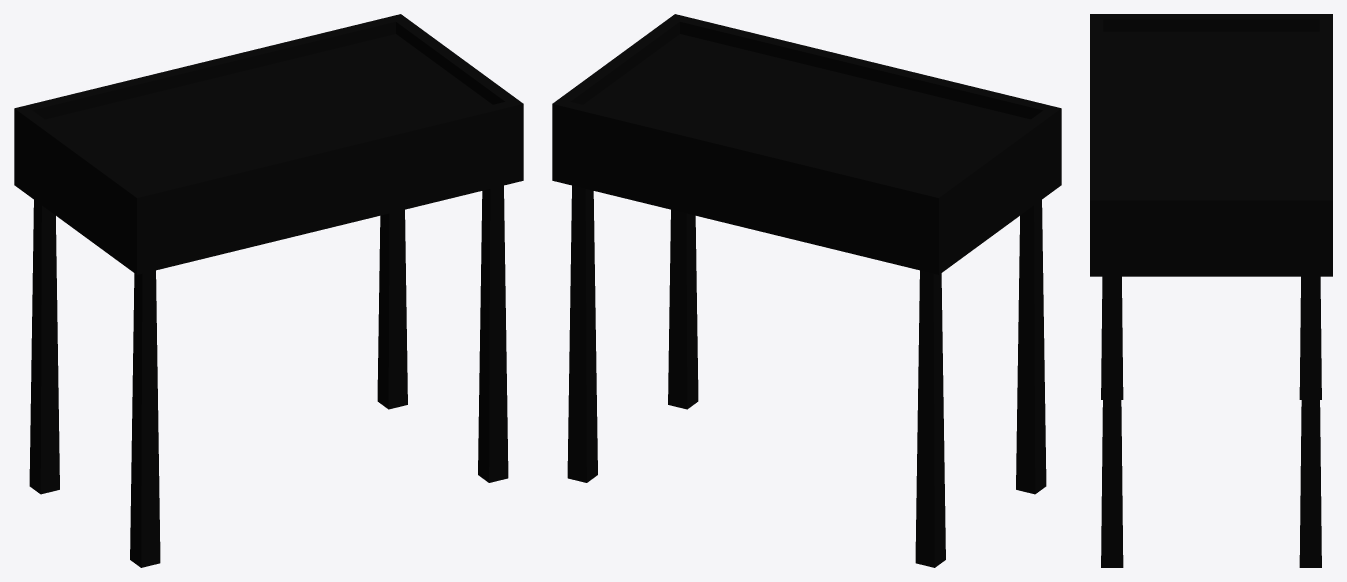
The model's file is SM_display_case.fbx.
3 renders of one model, left to right at view 1: azimuth 30°, elevation 25°; view 2: azimuth 150°, elevation 25°; view 3: azimuth 270°, elevation 25°, orthographic.
Visible parts, largest first — view 1: display_case; view 2: display_case; view 3: display_case.
Boxes of the visible parts, <box> form: display_case: <box>14,14,523,567</box>; display_case: <box>552,14,1061,567</box>; display_case: <box>1090,14,1332,567</box>.
Size of the model in its own units: 1 by 0.93 by 0.55.
